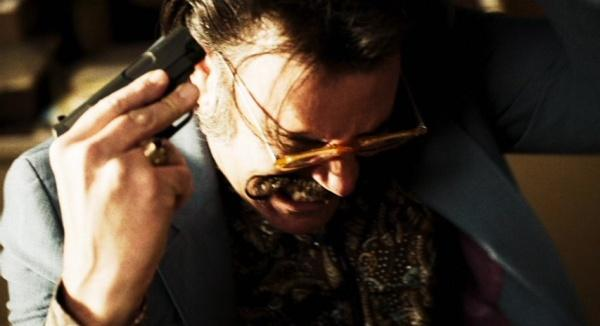Gun: (55, 26, 206, 140)
